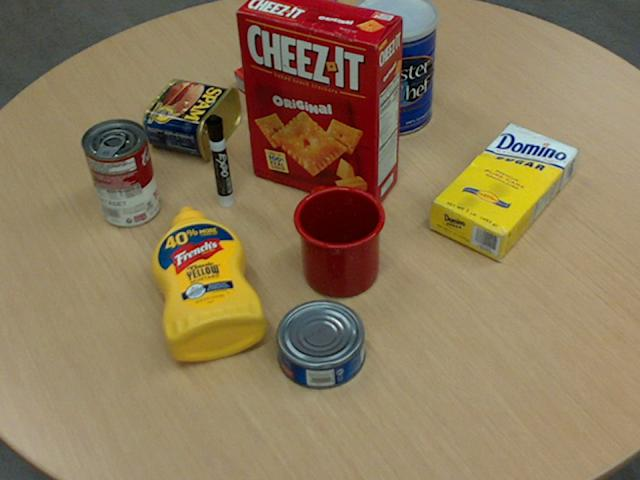cracker_box: (237, 0, 403, 208)
gelatin_box: (232, 49, 316, 113)
large_marker: (204, 114, 232, 208)
master_chef_can: (350, 0, 437, 136)
mug: (292, 185, 385, 296)
mustard_bottle: (150, 206, 266, 360)
potted_meat_can: (143, 78, 241, 159)
sugar_box: (429, 124, 578, 260)
tomato_soup_can: (81, 117, 158, 225)
tuna_fish_can: (276, 300, 365, 389)
